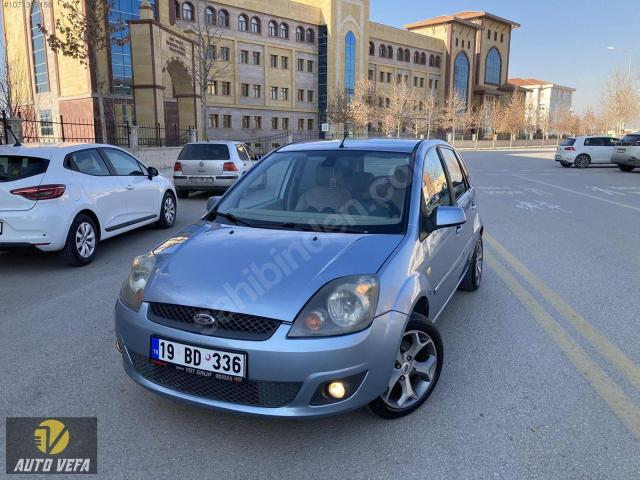plaka: (151, 338, 246, 380)
